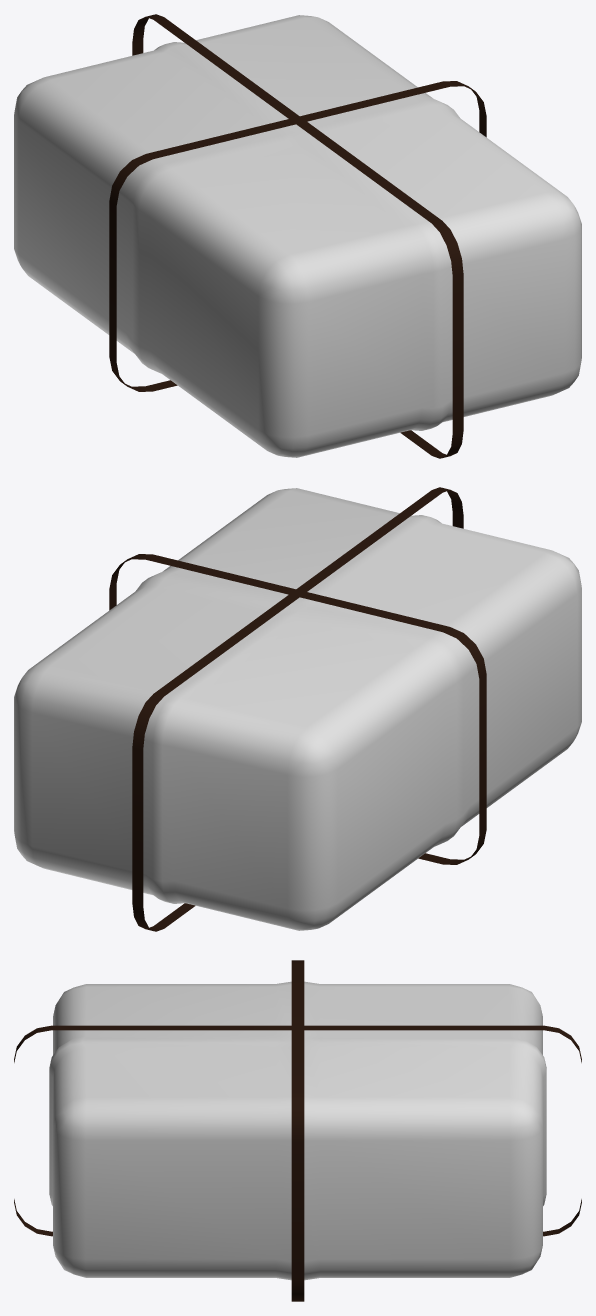
Rendered from Hay.fbx.
The picture shows the model from 3 angles, top to bottom: view 1: azimuth 30°, elevation 25°; view 2: azimuth 150°, elevation 25°; view 3: azimuth 270°, elevation 25°; orthographic projection. The views are drawn at different scales.
Visible parts, largest first — view 1: balehay, balePlastic; view 2: balehay, balePlastic; view 3: balehay, balePlastic.
Boxes of the visible parts, left/top/right/bottom form: balehay: left=14, top=15, right=581, bottom=457; balePlastic: left=109, top=14, right=486, bottom=458; balehay: left=14, top=488, right=581, bottom=930; balePlastic: left=109, top=487, right=486, bottom=931; balehay: left=49, top=981, right=546, bottom=1280; balePlastic: left=14, top=960, right=581, bottom=1301.
Bounding box in the file's own units: 116 × 69.54 × 174.
